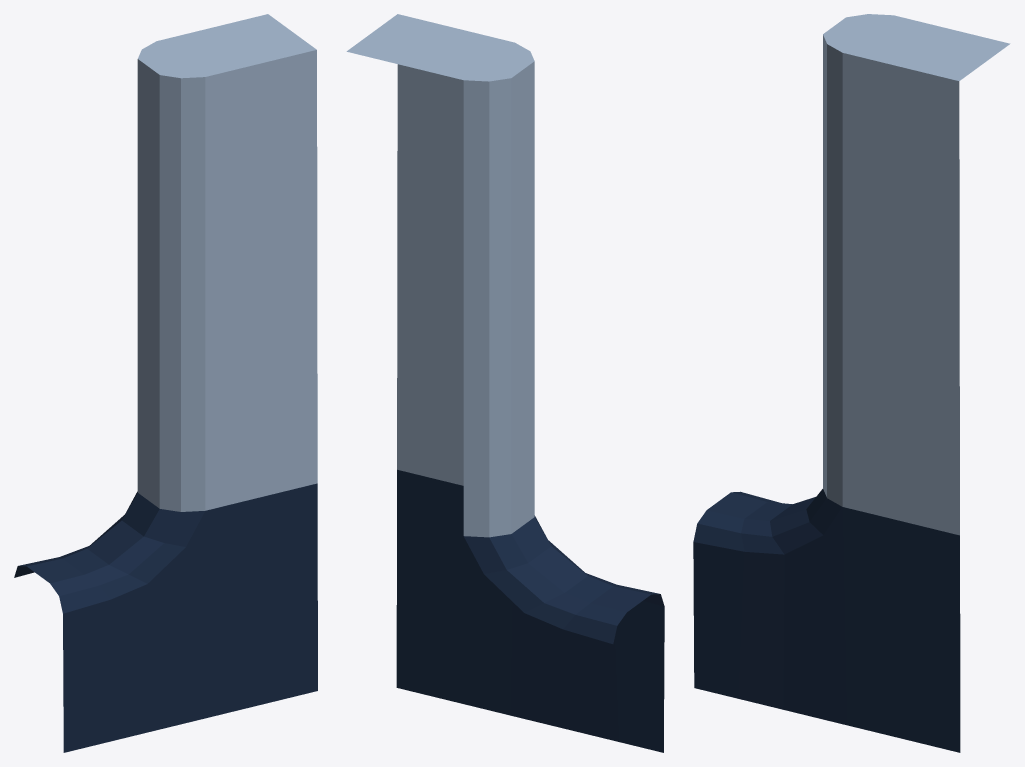
File: Wall_Corner_Front_Right.fbx
The picture shows the model from 3 angles, left to right: view 1: azimuth 30°, elevation 25°; view 2: azimuth 150°, elevation 25°; view 3: azimuth 330°, elevation 25°; orthographic projection. The views are drawn at different scales.
Visible parts, largest first — view 1: FrontCornerRight; view 2: FrontCornerRight; view 3: FrontCornerRight.
Boxes of the visible parts, x1,y1,x2,y2 form: FrontCornerRight: (14, 14, 317, 752); FrontCornerRight: (346, 14, 664, 752); FrontCornerRight: (693, 14, 1010, 752).
Size of the model in its own units: 90.33 by 217 by 30.
